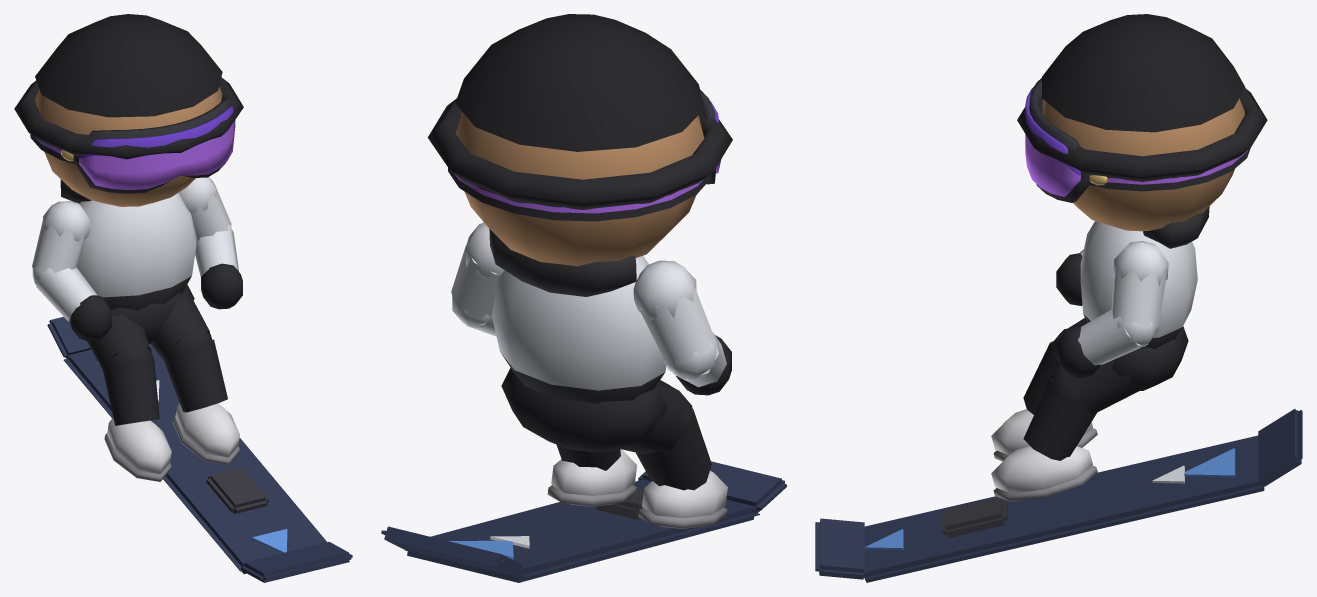
The model's file is rider_board_lift.glb.
3 views of the same model, side by side, from view 1: azimuth 30°, elevation 25°; view 2: azimuth 150°, elevation 25°; view 3: azimuth 270°, elevation 25° (orthographic). The views are drawn at different scales.
Visible parts, largest first — view 1: LSB_Beanie, LSB_Board, LSB_Torso, LSB_GoggleLens, LSB_Head, LSB_Cuff, LSB_Shin_R, LSB_Shin_L, LSB_Shoe_L, LSB_BoardTip_0, LSB_Shoe_R, LSB_GoggleFrame (+18 smaller); view 2: LSB_Beanie, LSB_Torso, LSB_Head, LSB_Board, LSB_Cuff, LSB_Pelvis, LSB_Hood, LSB_UpperArm_L, LSB_Shin_L, LSB_BoardTip_1, LSB_Shoe_L, LSB_Shoulder_L (+15 smaller); view 3: LSB_Board, LSB_Beanie, LSB_Head, LSB_Torso, LSB_Cuff, LSB_Shin_R, LSB_Shoe_R, LSB_BoardTip_0, LSB_BoardTip_1, LSB_UpperArm_R, LSB_Pelvis, LSB_GoggleLens (+14 smaller).
Part boxes in pixels (x1,y1,x2,y2): LSB_Beanie: (35,14,222,117); LSB_Board: (63,344,326,574); LSB_Torso: (77,192,196,310); LSB_GoggleLens: (79,106,235,190); LSB_Head: (35,87,222,206); LSB_Cuff: (14,77,243,159); LSB_Shin_R: (163,339,227,412); LSB_Shin_L: (102,358,159,425); LSB_Shoe_L: (107,417,171,473); LSB_BoardTip_0: (241,541,352,582); LSB_Shoe_R: (175,403,239,457); LSB_GoggleFrame: (73,98,230,193); LSB_Beanie: (455,14,704,151); LSB_Torso: (492,256,666,403); LSB_Head: (455,112,704,266); LSB_Board: (405,479,759,582); LSB_Cuff: (427,98,732,209); LSB_Pelvis: (501,368,667,452); LSB_Hood: (489,229,636,296); LSB_UpperArm_L: (639,284,716,364); LSB_Shin_L: (635,407,711,490); LSB_BoardTip_1: (381,526,525,577); LSB_Shoe_L: (642,470,727,517); LSB_Shoulder_L: (633,260,696,319); LSB_Board: (863,435,1264,582); LSB_Beanie: (1042,14,1245,132); LSB_Head: (1042,98,1244,231); LSB_Torso: (1080,221,1197,349); LSB_Cuff: (1017,88,1267,181); LSB_Shin_R: (1023,379,1096,460); LSB_Shoe_R: (991,445,1092,493); LSB_BoardTip_0: (815,518,868,579); LSB_BoardTip_1: (1257,409,1302,486); LSB_UpperArm_R: (1111,267,1167,326); LSB_Pelvis: (1112,326,1188,390); LSB_GoggleLens: (1025,87,1080,196).
Size of the model in its own units: 0.5885 by 1.29 by 1.1.
